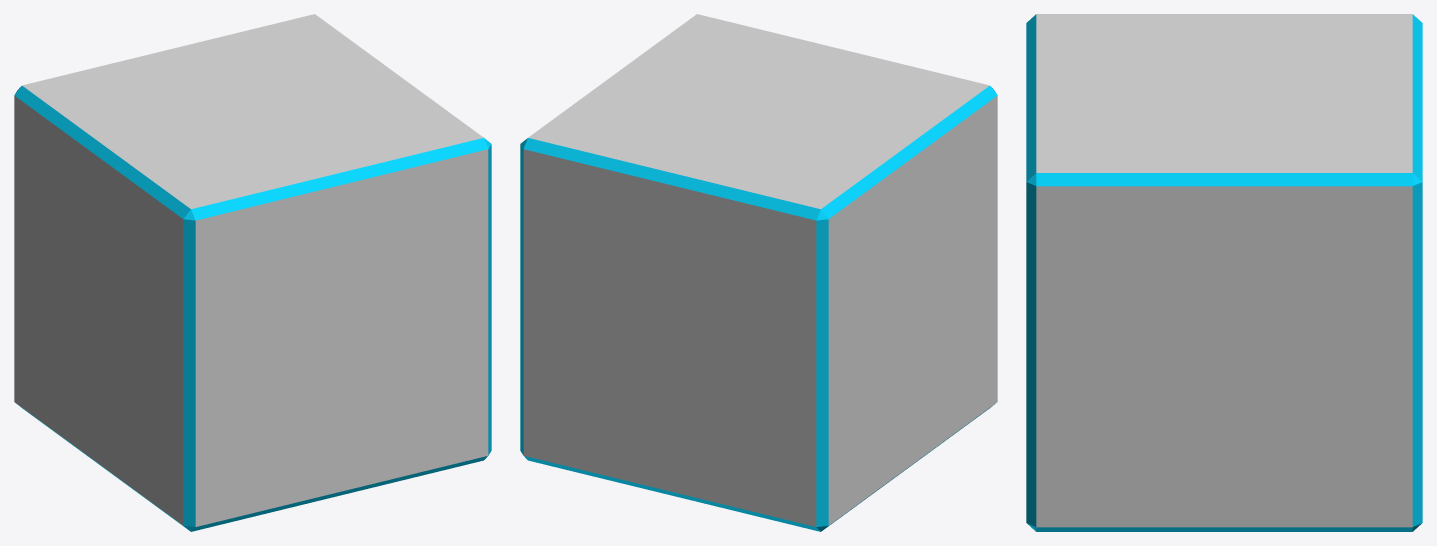
The model's file is neon_white_block_bevelled_1x1.obj.
The picture shows the model from 3 angles, left to right: view 1: azimuth 30°, elevation 25°; view 2: azimuth 150°, elevation 25°; view 3: azimuth 270°, elevation 25°; orthographic projection. The views are drawn at different scales.
Parts seen in each view (by area): view 1: neon_white_block_bevelled_1x1; view 2: neon_white_block_bevelled_1x1; view 3: neon_white_block_bevelled_1x1.
Part boxes in pixels (<box>): neon_white_block_bevelled_1x1: <box>14,14,491,531</box>; neon_white_block_bevelled_1x1: <box>520,14,997,531</box>; neon_white_block_bevelled_1x1: <box>1026,14,1422,531</box>.
Bounding box in the file's own units: 1 × 1 × 1.
